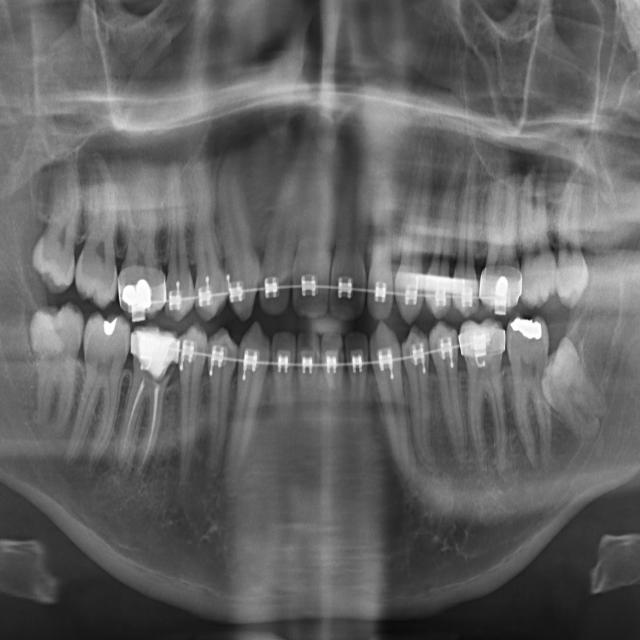AmalgamRestoration: (119, 276, 152, 320), (510, 312, 542, 351), (493, 265, 513, 314), (100, 306, 120, 346)
CompositeResinRestoration: (131, 327, 177, 378)
ImpactedTooth: (18, 307, 84, 437), (545, 338, 607, 451)
RootCanalTreatment: (119, 378, 167, 471)
